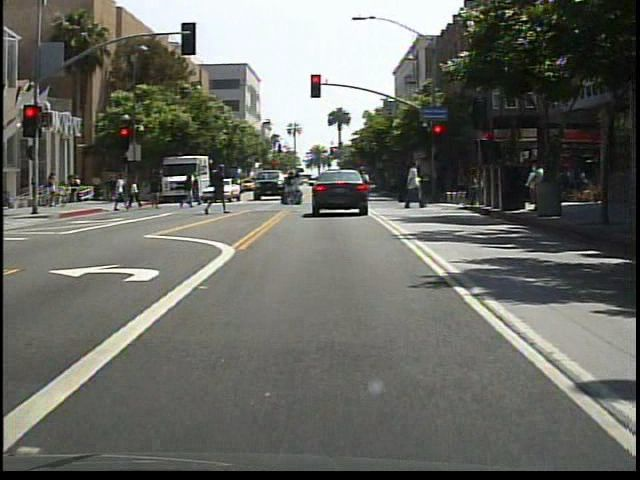person: (206, 163, 231, 219), (400, 159, 425, 211), (321, 168, 342, 214), (179, 172, 199, 213), (113, 172, 131, 216)
